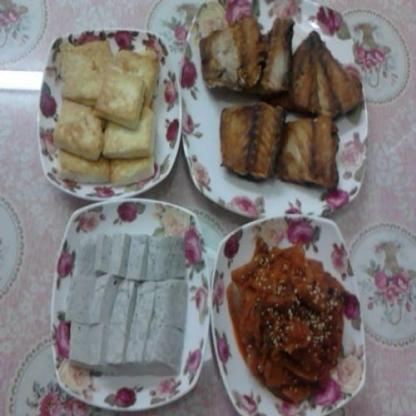Peixe: (185, 3, 376, 184)
